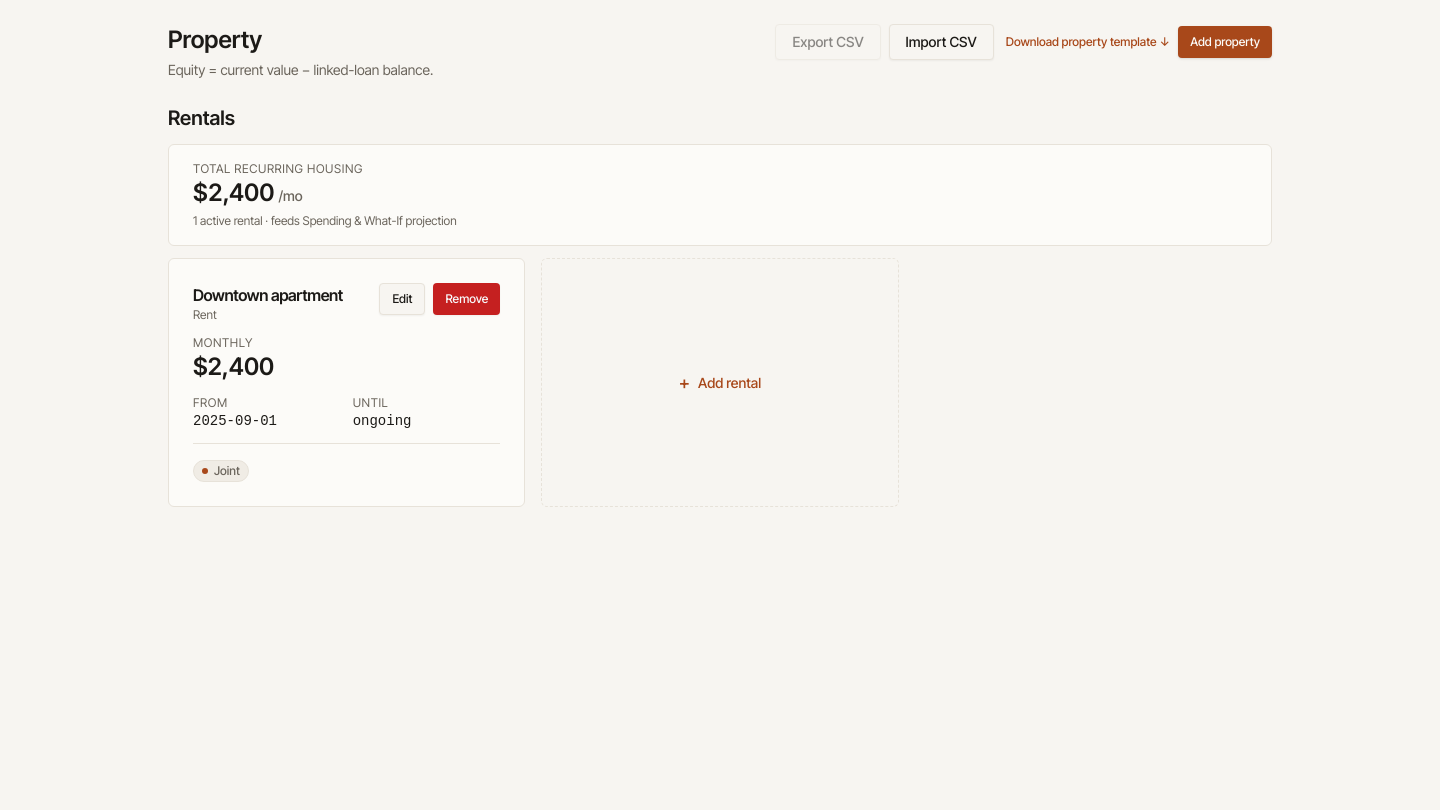
Property page › the Add rental tile opens the create drawer in place (W14)
Expected: the text "Downtown apartment" is shown, [193,283,343,307]
What coordinates should you click on to do the following:
click the button "+ Add rental"
I would click on:
 (720, 382)
Its box is [541,258,899,507].
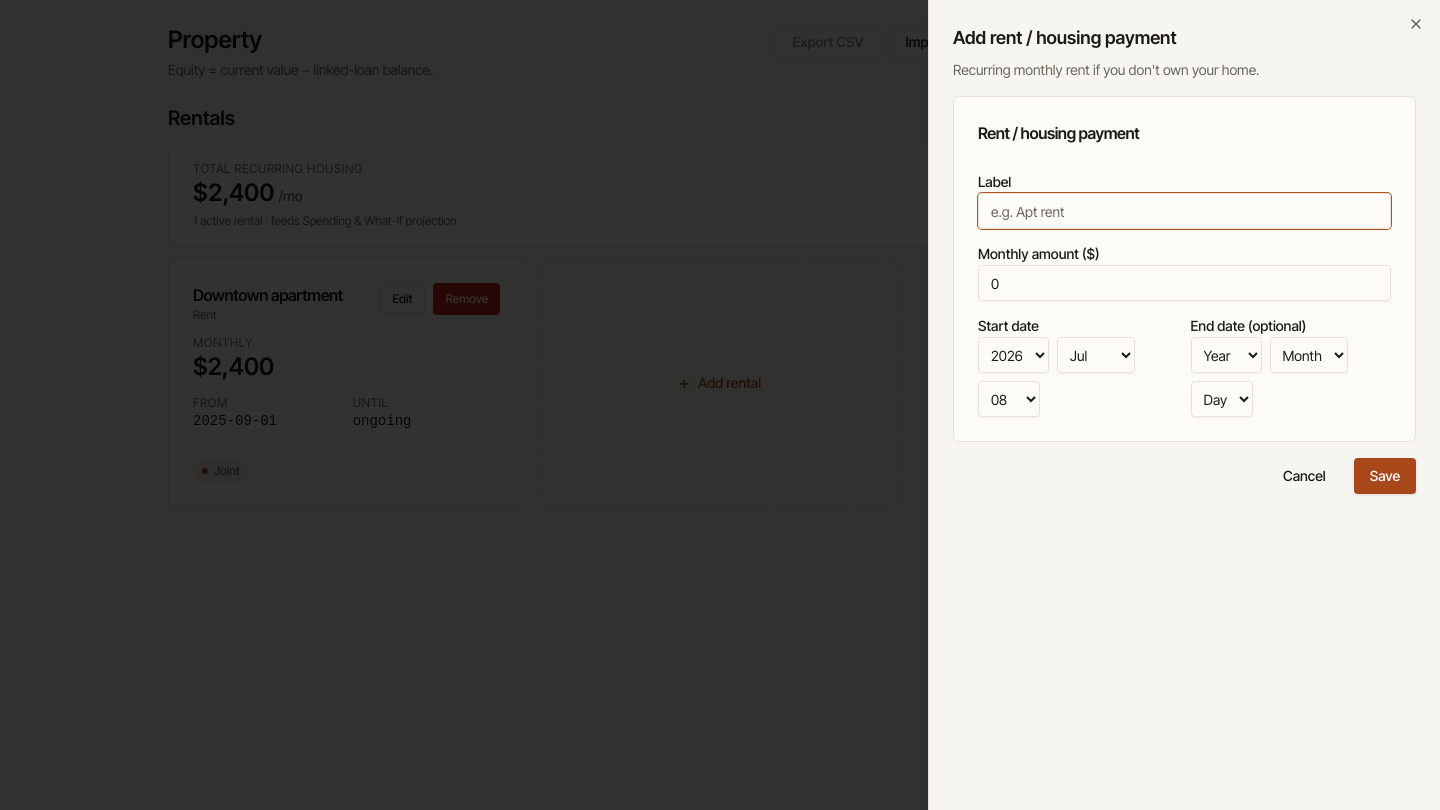
Now the dialog "Add rent" is shown, box [928,0,1439,809]
